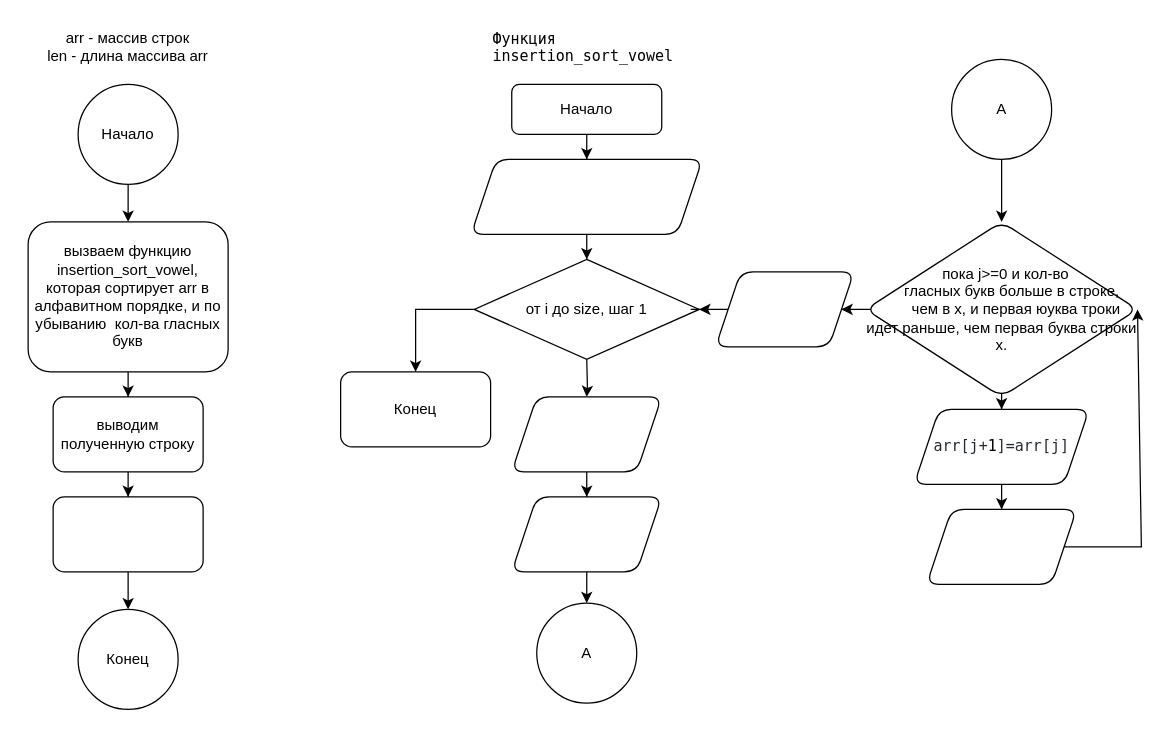
Some shapes in this 1174 by 731 pixel diagram are drawn without their labels. The box of each missing label's shape, as (x1, y1, x2, y2) in pixels:
arr[j+ 1 ]=x: (714, 271, 854, 347)
j = i - 1: (510, 496, 662, 572)
j = j -1: (925, 508, 1077, 584)
x = arr[i]: (510, 396, 662, 472)
выводим только те слова, в которых больше чем 2 буквы "а": (52, 496, 203, 572)
Получаем строку arr и его размер size: (470, 158, 702, 234)
